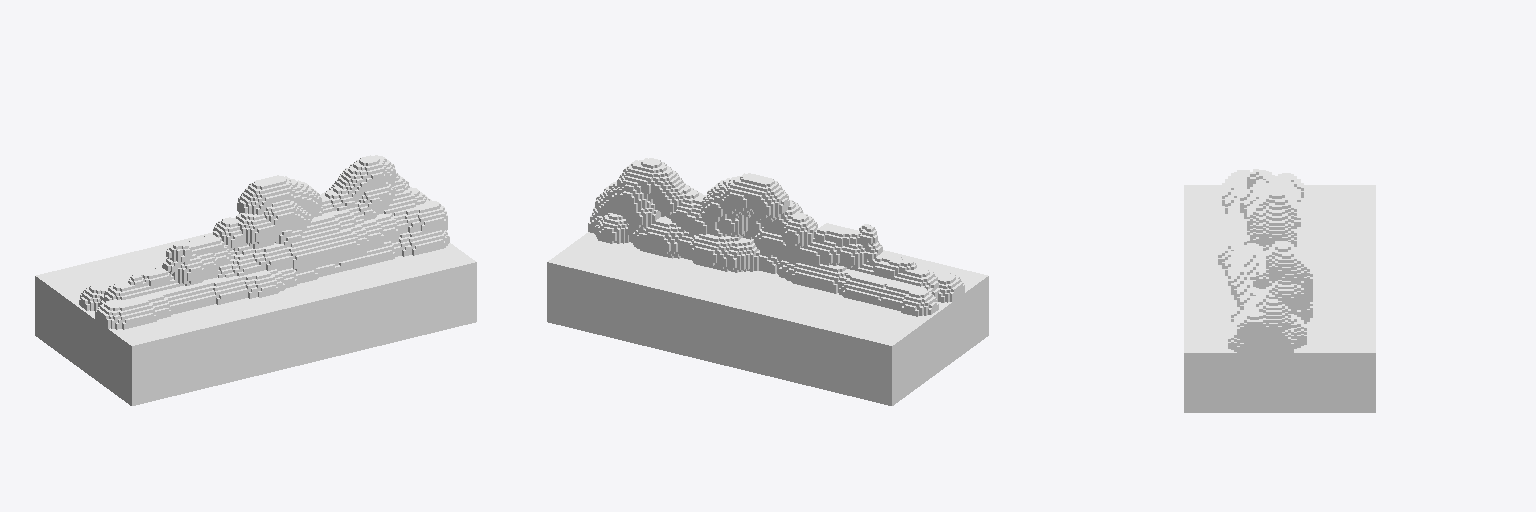
The model's file is Map_Field-3.obj.
3 renders of one model, left to right at view 1: azimuth 30°, elevation 25°; view 2: azimuth 150°, elevation 25°; view 3: azimuth 270°, elevation 25°, orthographic.
Parts seen in each view (by area): view 1: Map_Field-3; view 2: Map_Field-3; view 3: Map_Field-3.
Boxes of the visible parts, <box> form: Map_Field-3: <box>35,155,476,405</box>; Map_Field-3: <box>547,158,988,405</box>; Map_Field-3: <box>1184,169,1375,412</box>.
Size of the model in its own units: 126 by 51 by 61.